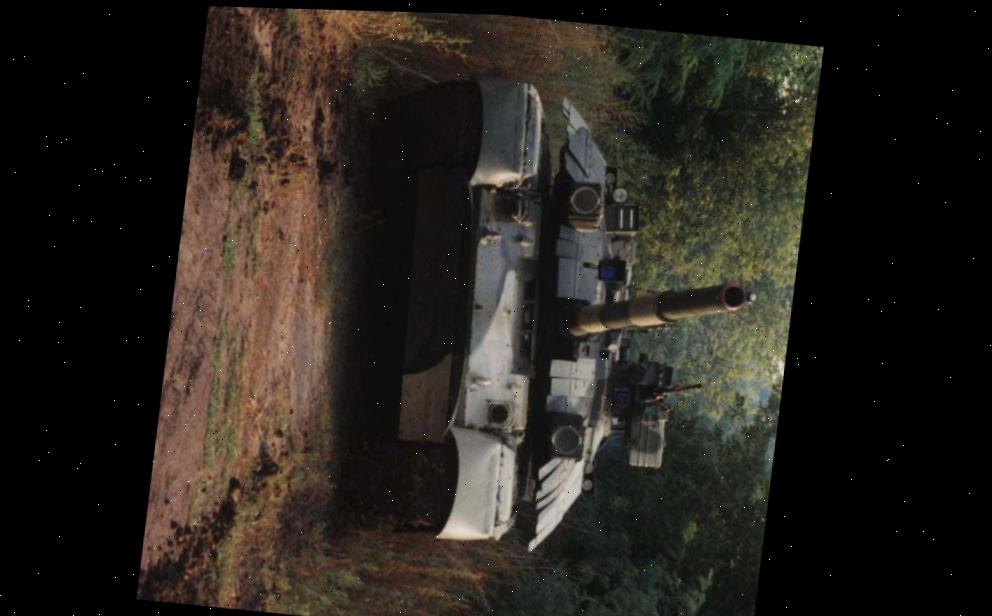tank: (316, 54, 783, 571)
